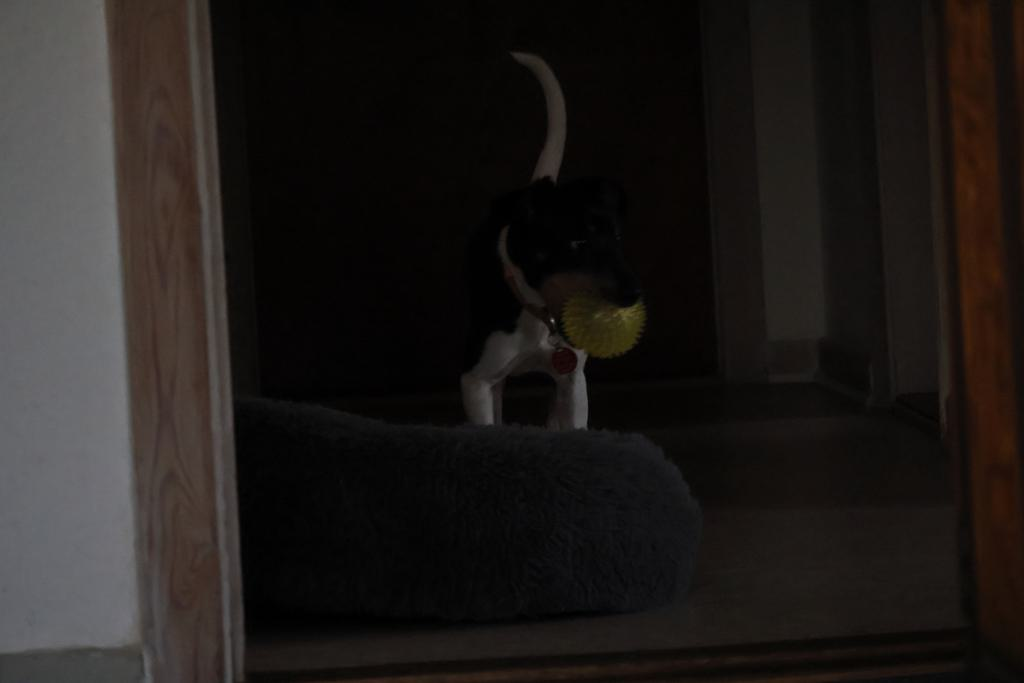Dog: (434, 39, 677, 451)
